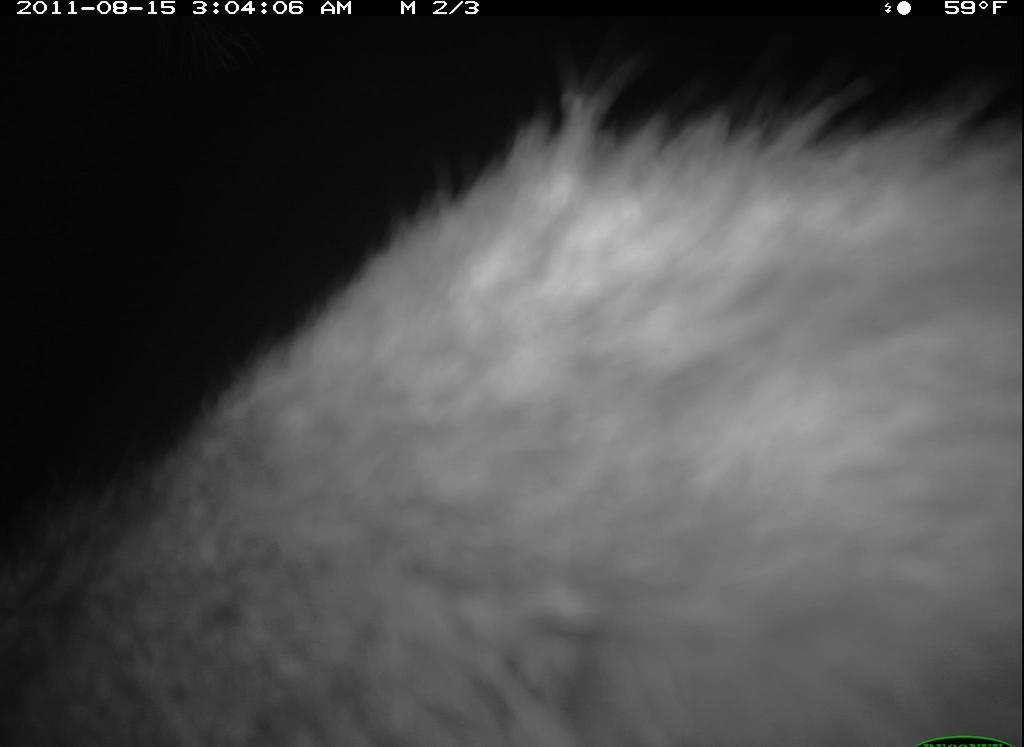raccoon: (3, 66, 1023, 747)
